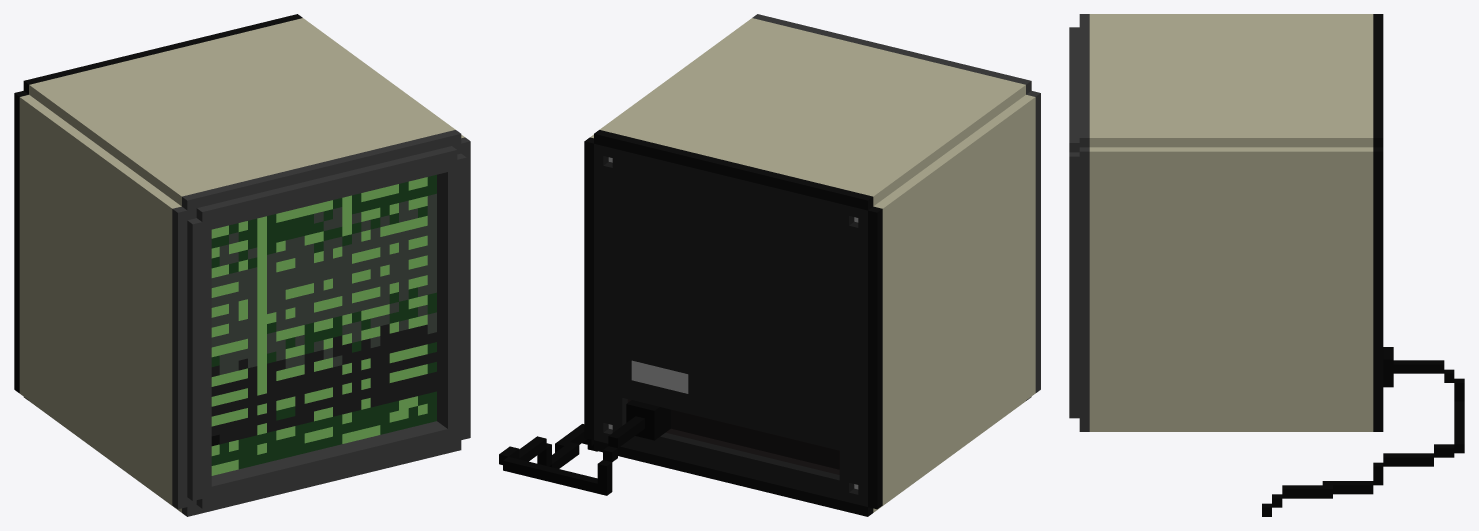
Rendered from 1980s PC Monitor TallGuy.fbx.
3 views of the same model, side by side, from view 1: azimuth 30°, elevation 25°; view 2: azimuth 150°, elevation 25°; view 3: azimuth 270°, elevation 25° (orthographic). The views are drawn at different scales.
Parts seen in each view (by area): view 1: CounterScreen; view 2: CounterScreen; view 3: CounterScreen.
Part boxes in pixels (<box>): CounterScreen: <box>14,14,470,516</box>; CounterScreen: <box>499,14,1040,516</box>; CounterScreen: <box>1069,14,1464,516</box>.
Bounding box in the file's own units: 3700 × 3800 × 3900.
